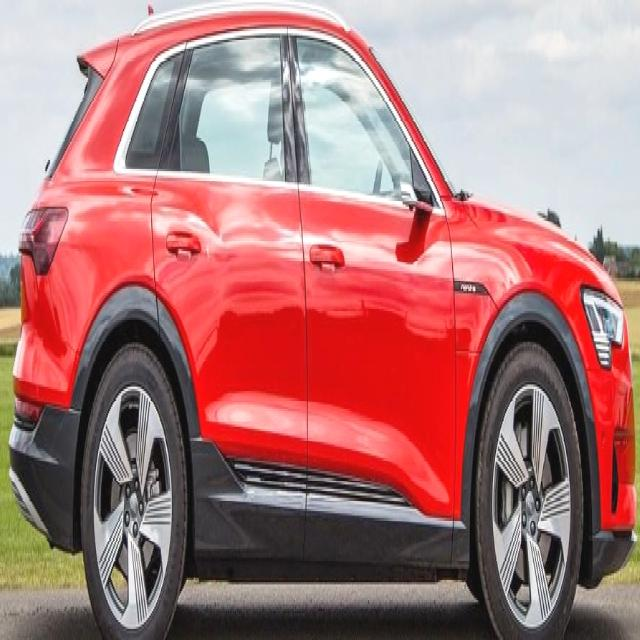red: (0, 0, 633, 600)
